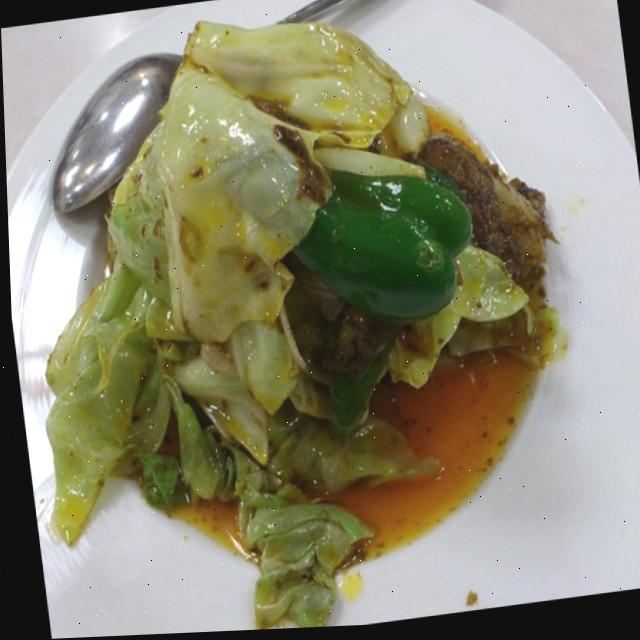猪肉菜式: (0, 0, 583, 630)
